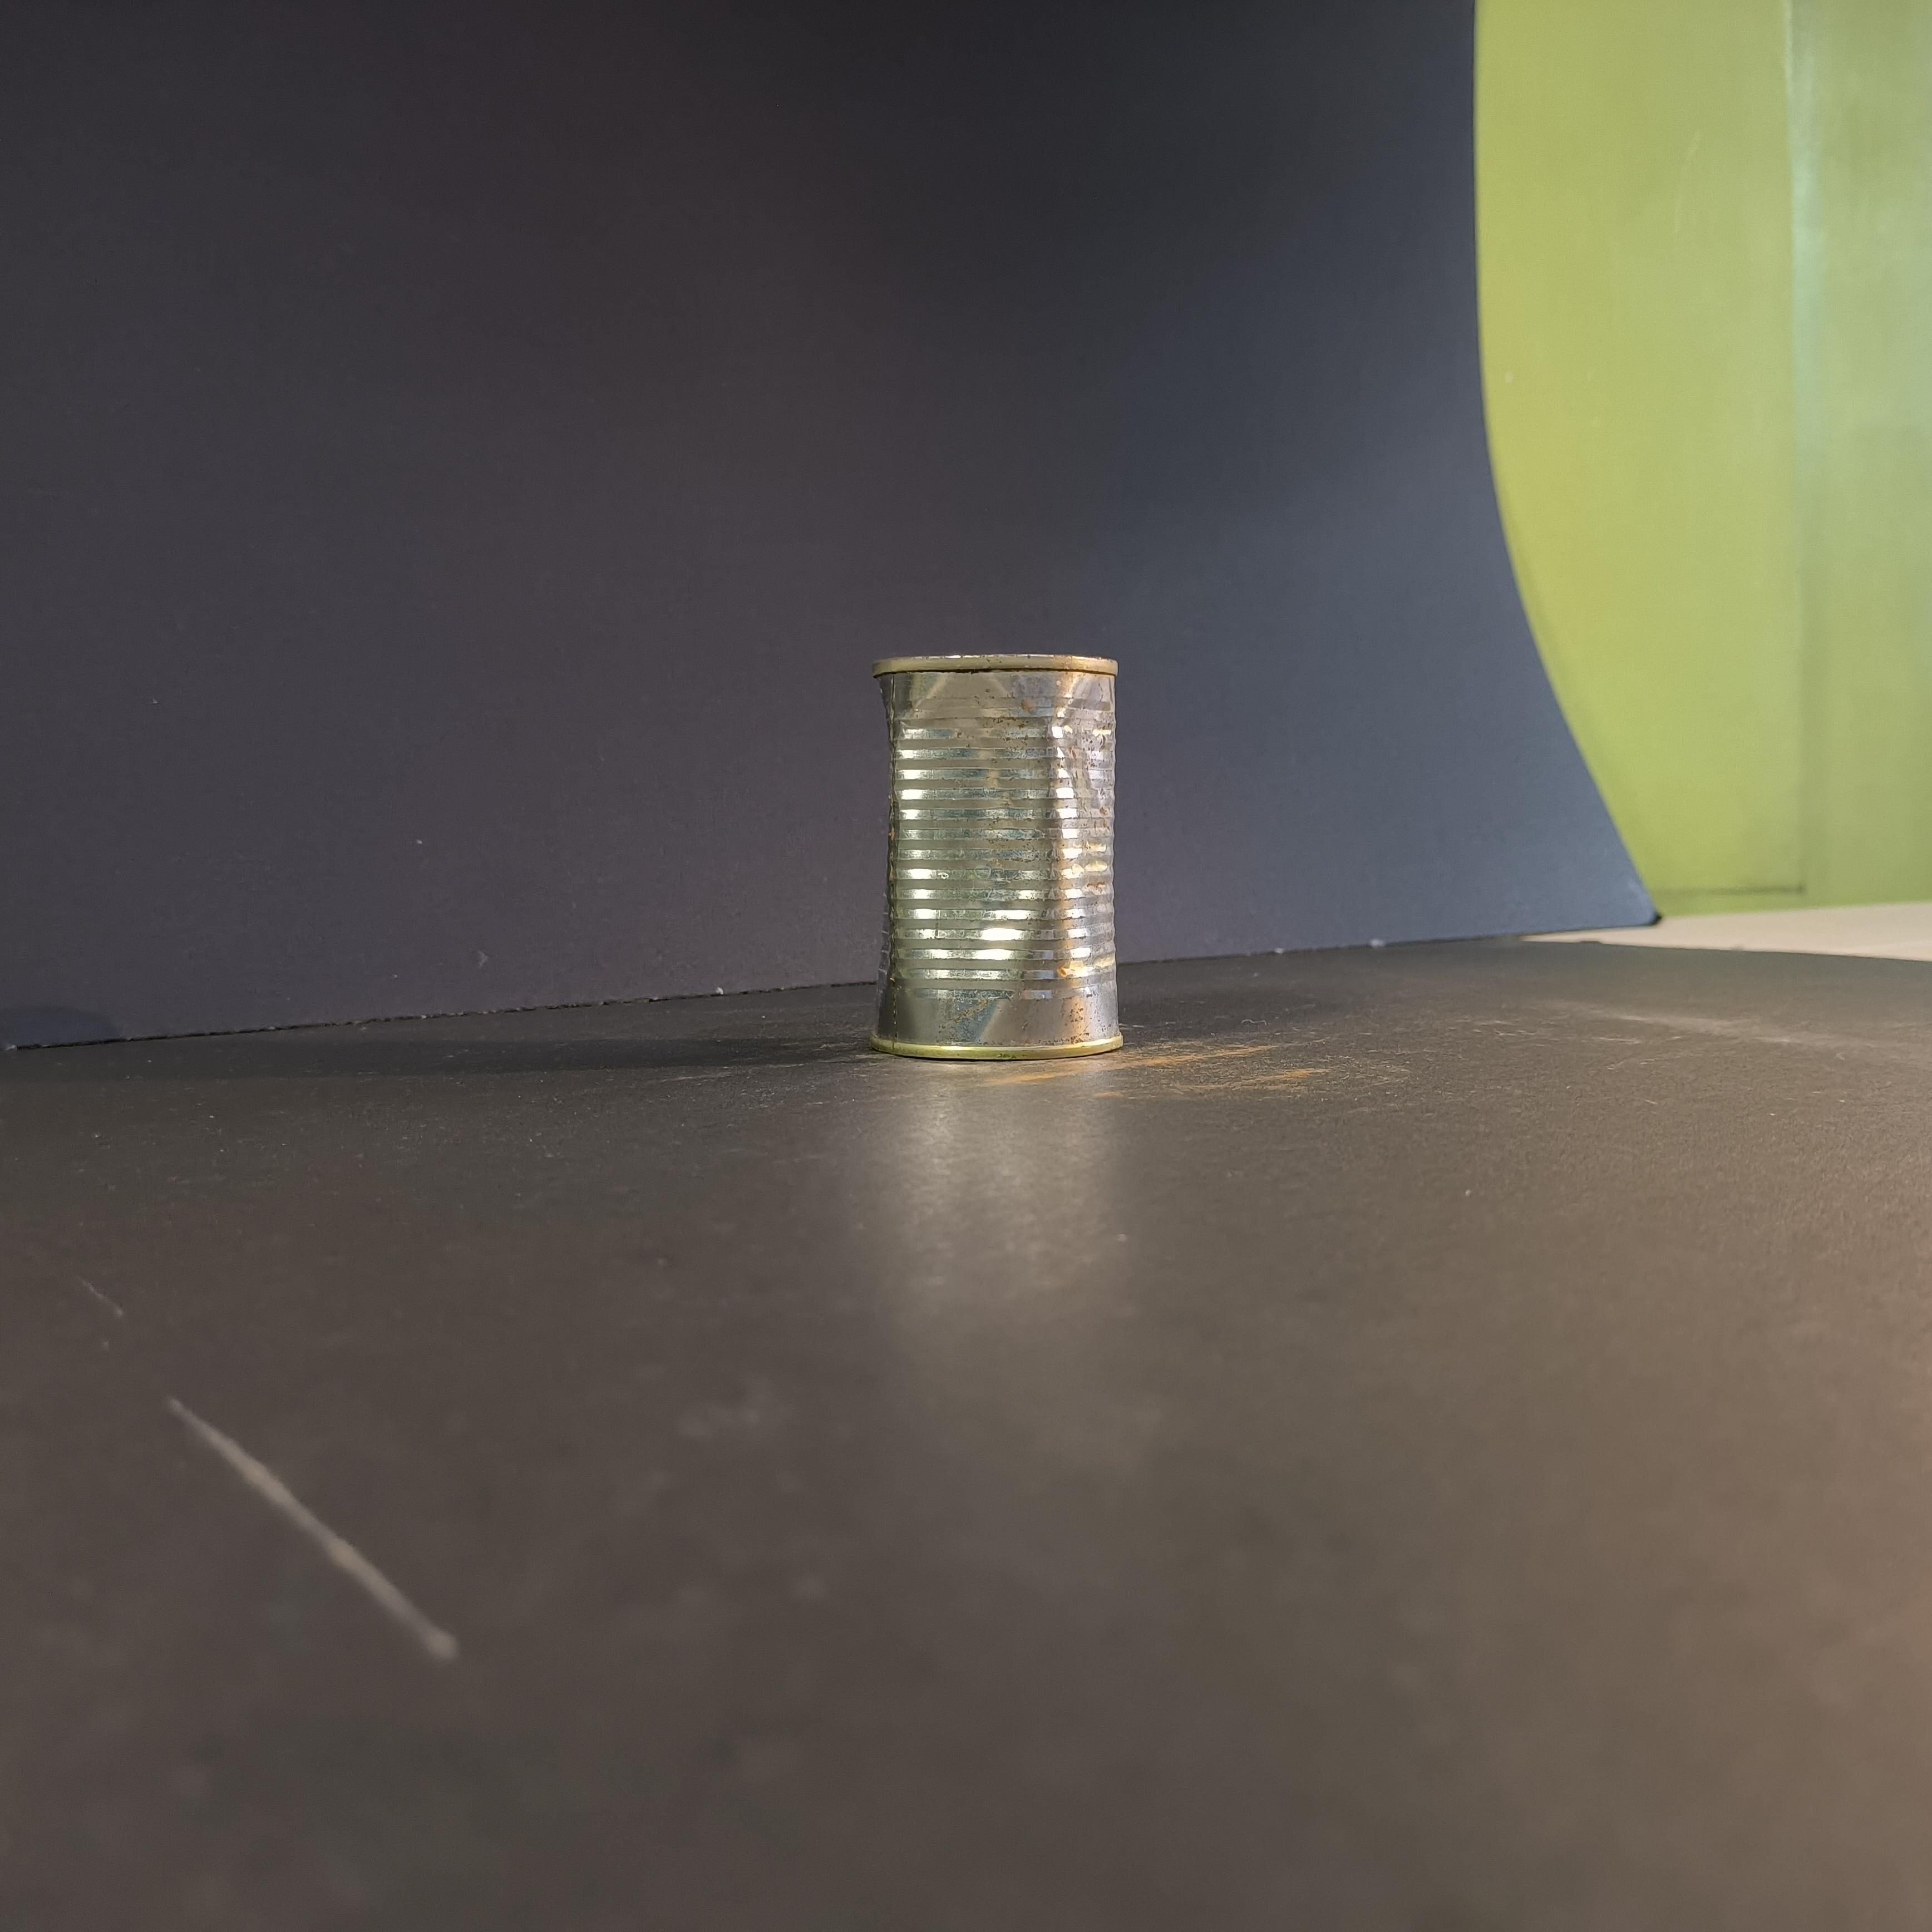Dented: (860, 623, 1148, 1069)
